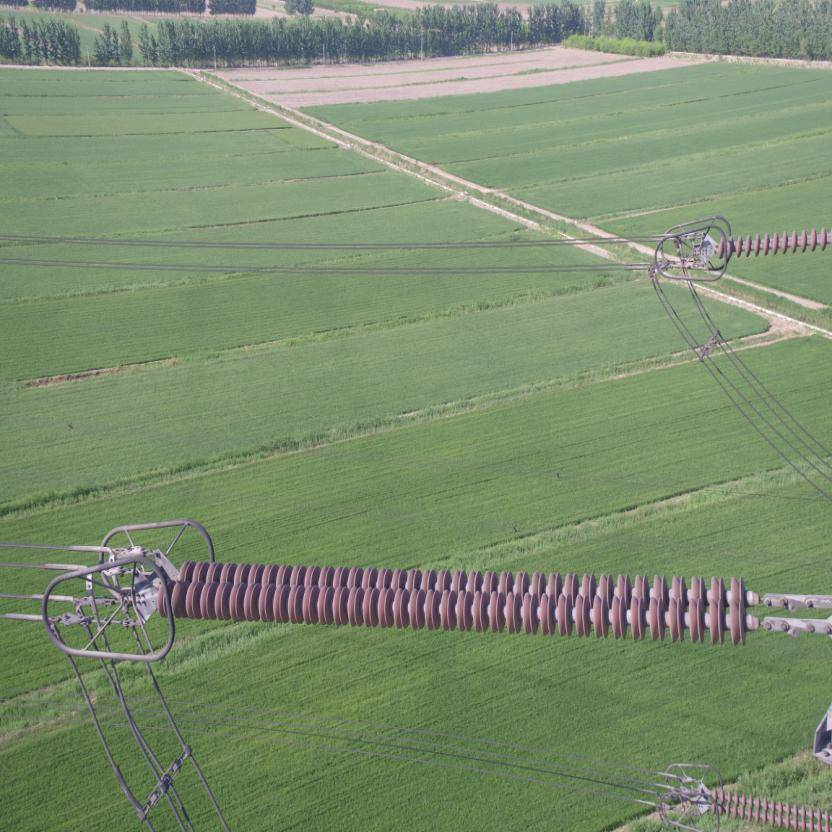insulator: (144, 552, 796, 648), (710, 220, 831, 261)
